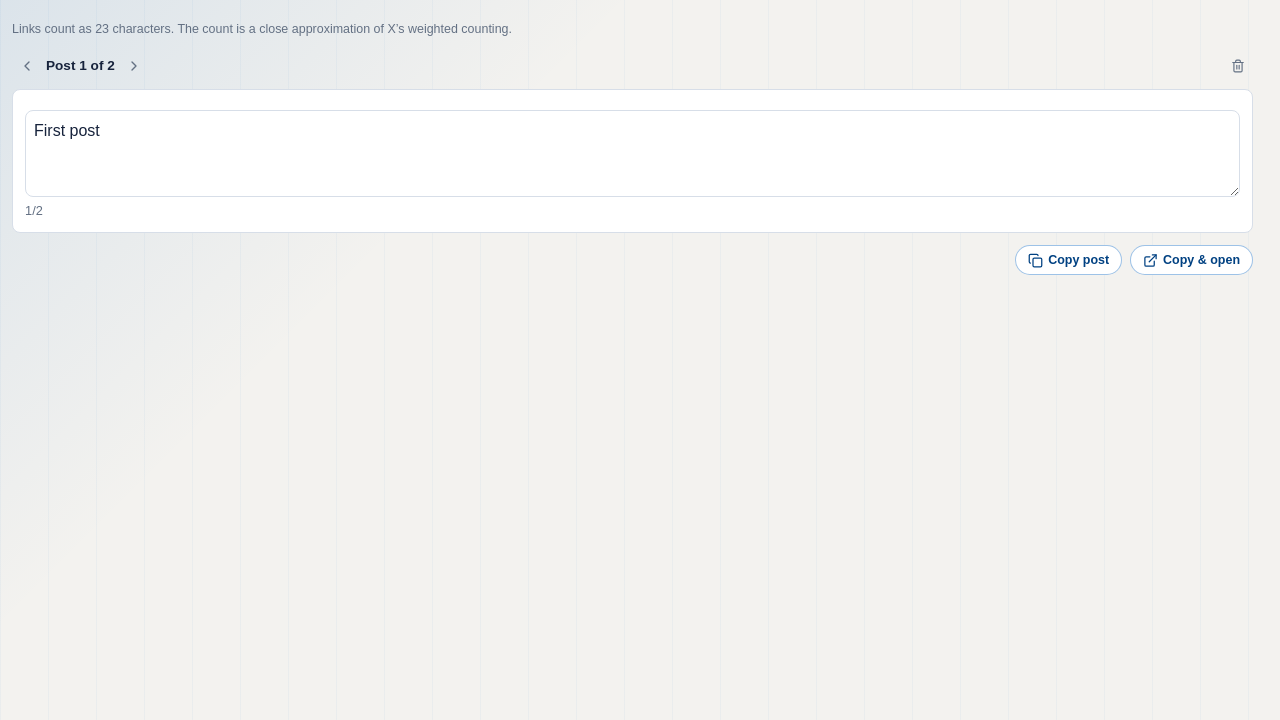
thread editor › does not open a composer if copying fails
Click the button named "Copy & open post 1".
click(1192, 260)  # box [1130,246,1253,276]
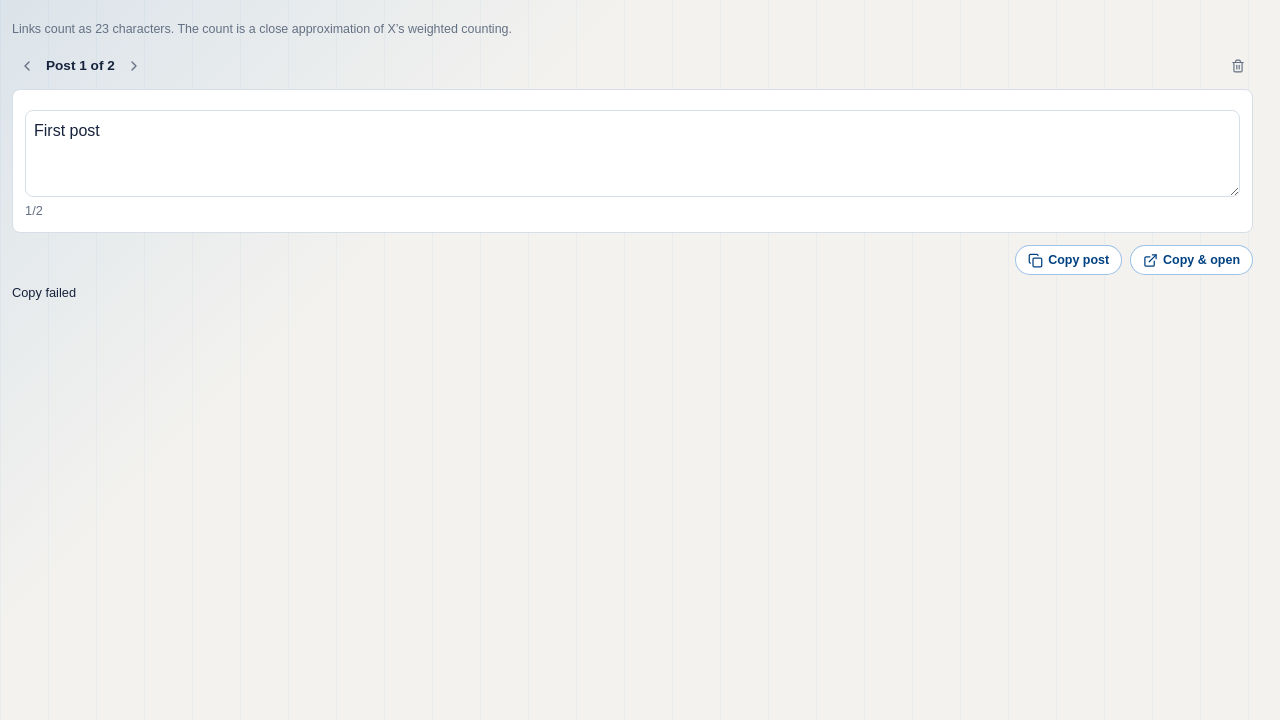
Expected: the text box named "X post 1 text" is shown, [25,110,1240,197]
Result: the text "Copy failed" is shown at [12,286,76,300]
